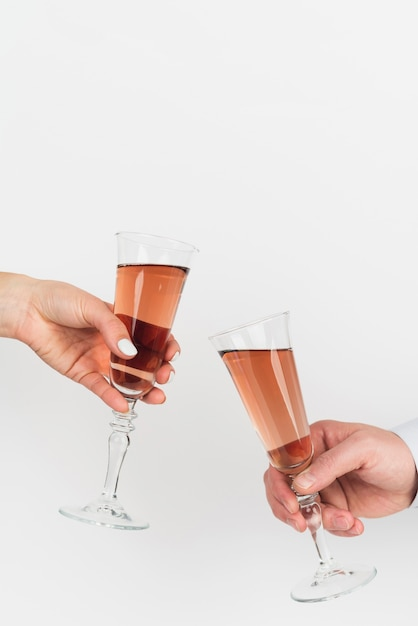alcohol: (213, 316, 381, 603), (57, 223, 199, 529)
